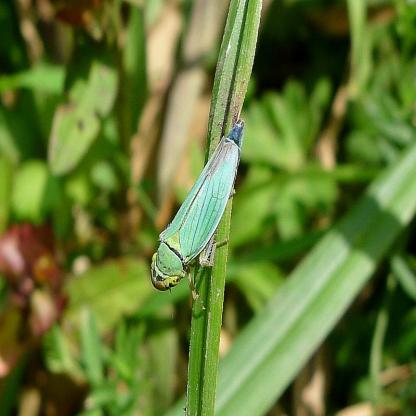Green-Leafhopper: (145, 114, 251, 306)
